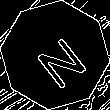N_NW: (24, 23, 86, 87)
